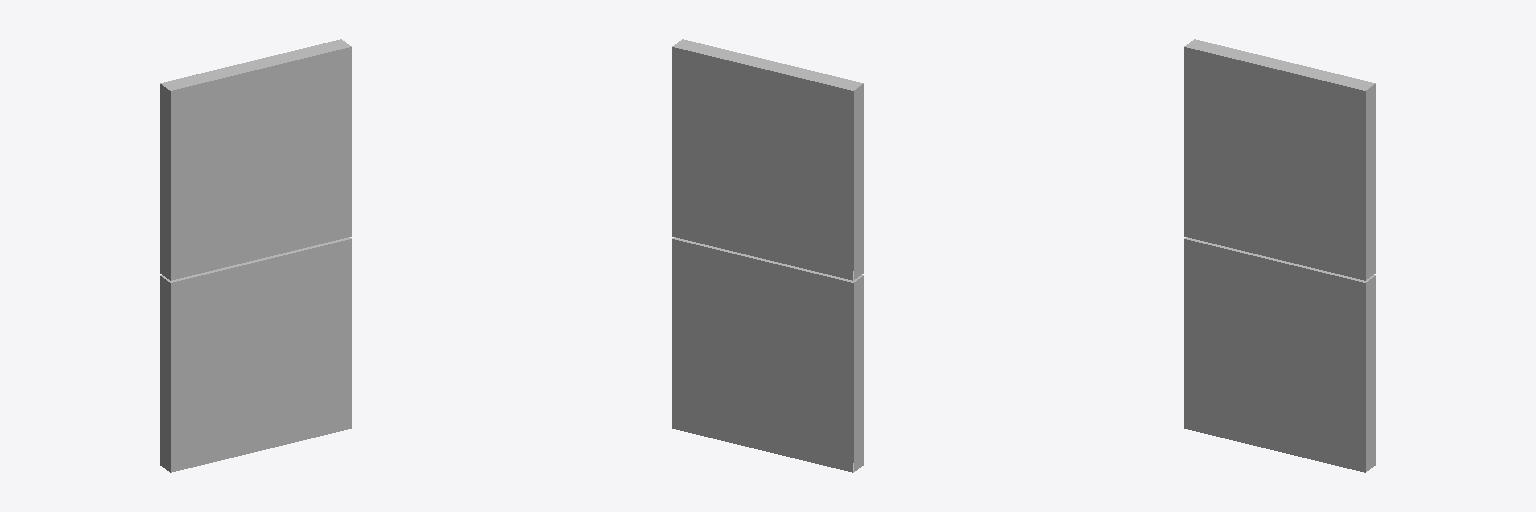
Rendered from boxpsx.obj.
3 renders of one model, left to right at view 1: azimuth 30°, elevation 25°; view 2: azimuth 150°, elevation 25°; view 3: azimuth 330°, elevation 25°, orthographic.
Visible parts, largest first — view 1: g0; view 2: g0; view 3: g0.
Part boxes in pixels (x1,y1,x2,y2): g0: (160,39,351,472); g0: (672,39,863,472); g0: (1184,39,1375,472).
Bounding box in the file's own units: 1.55 × 3.12 × 0.1541.